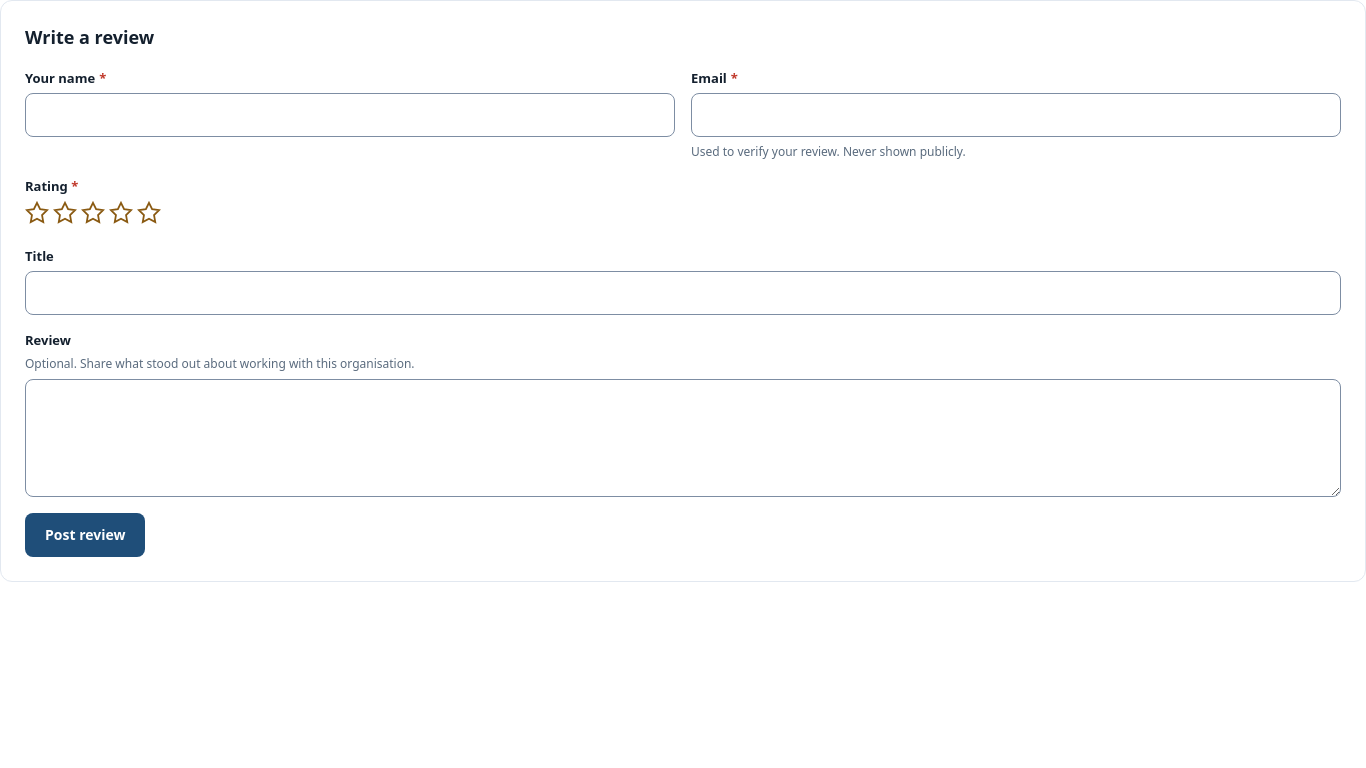
ReviewForm › maps a 400 field error onto the email input
Type "Jo" into the field labelled "Your name*" at {"x": 350, "y": 116}, box [25, 94, 675, 138]
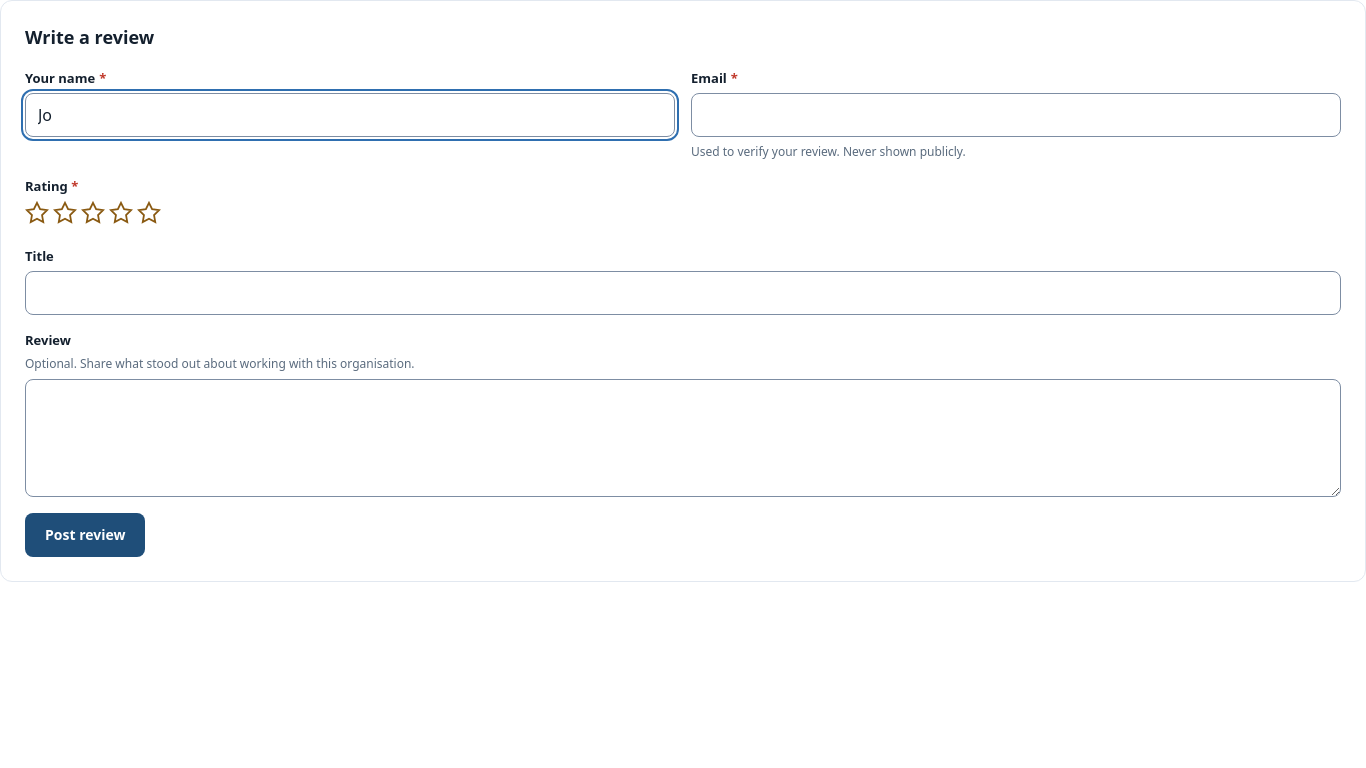
Type "jo@example.com" into the field labelled "Email*" at {"x": 1016, "y": 116}, box [691, 94, 1341, 138]
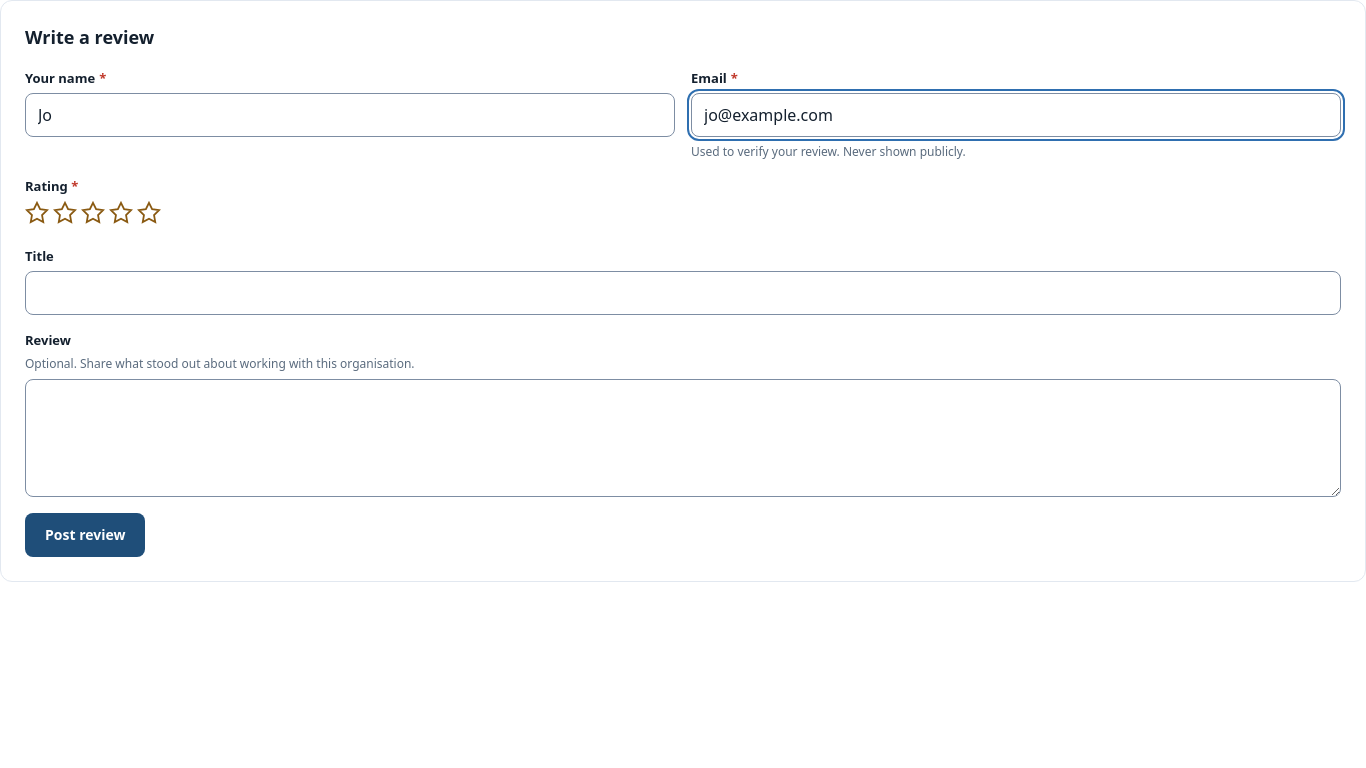
Click the radio button named "3 out of 5" at {"x": 93, "y": 213}, box [81, 201, 105, 225]
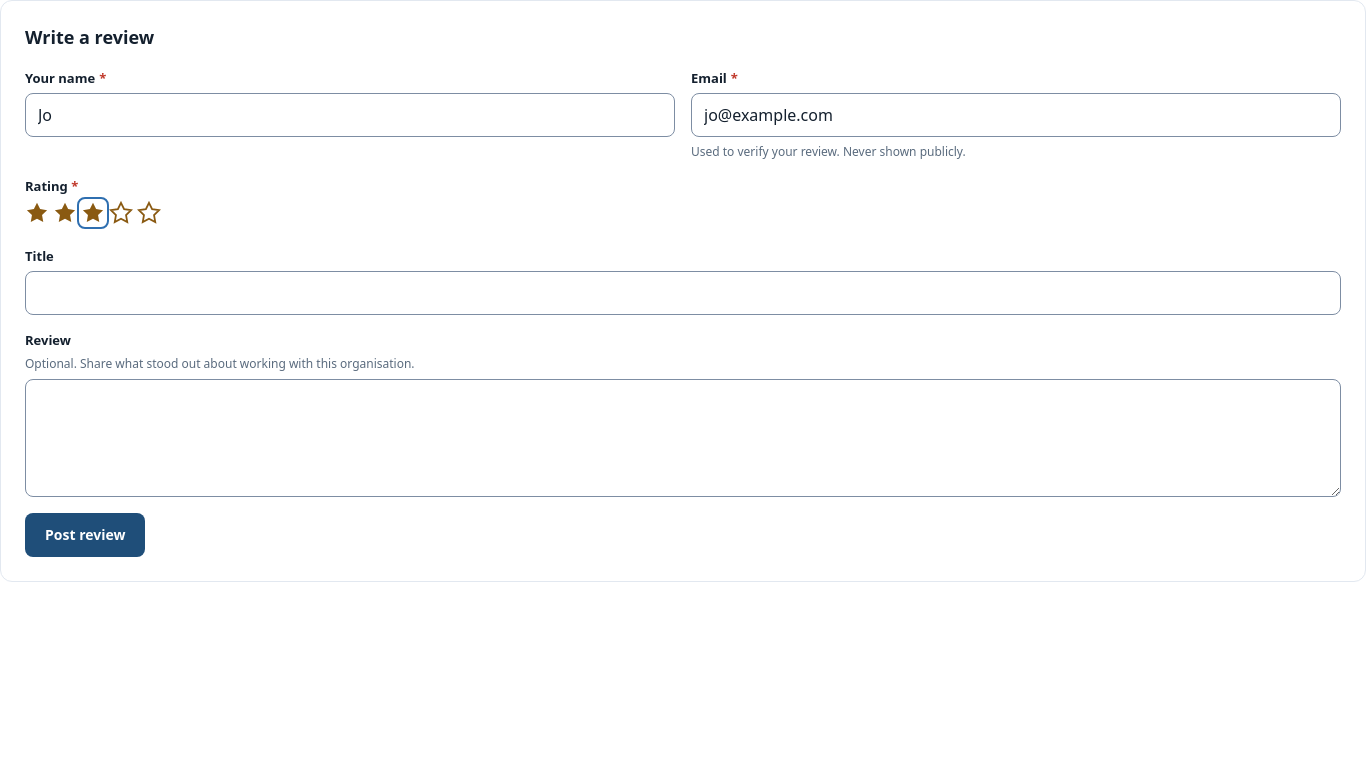
Click the button "Post review" at {"x": 85, "y": 535}, box [25, 513, 145, 557]
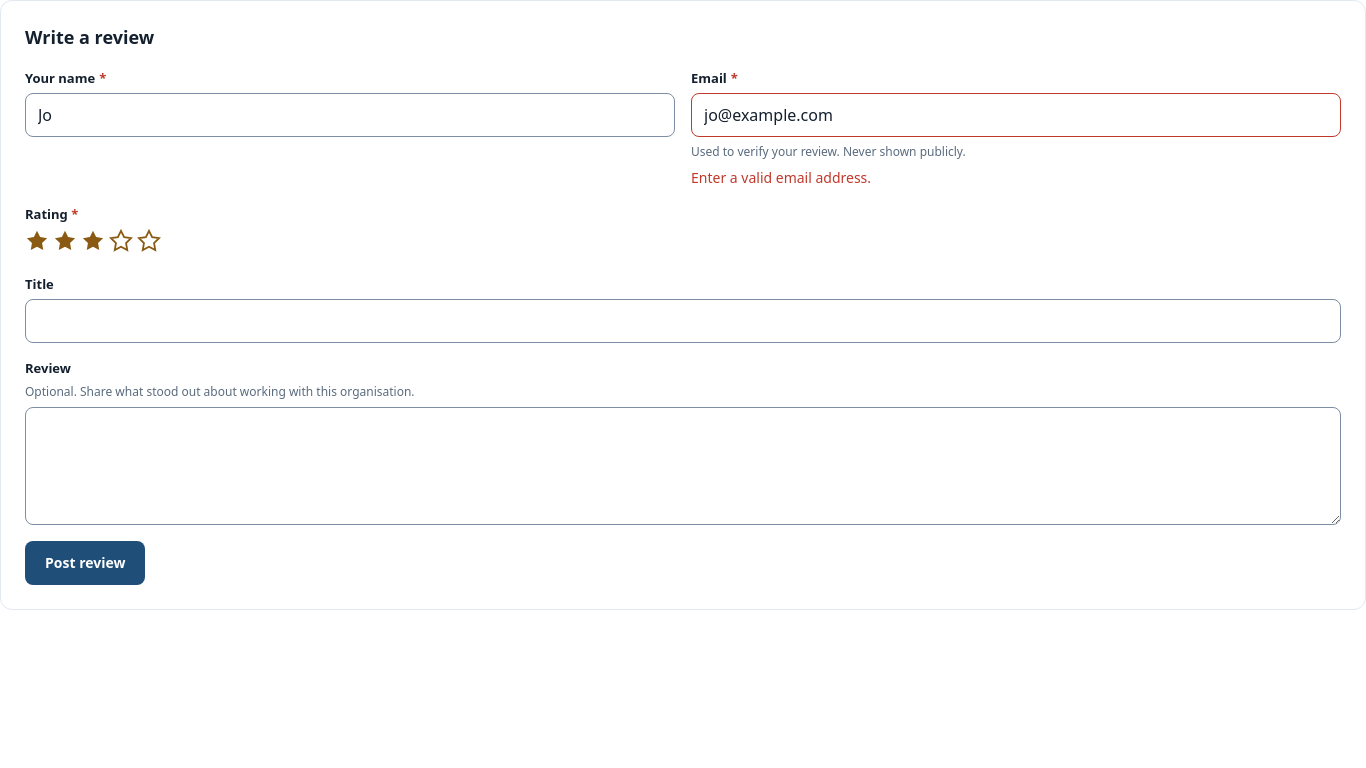
Result: the text "Enter a valid email address." is shown at [691, 168, 871, 187]
